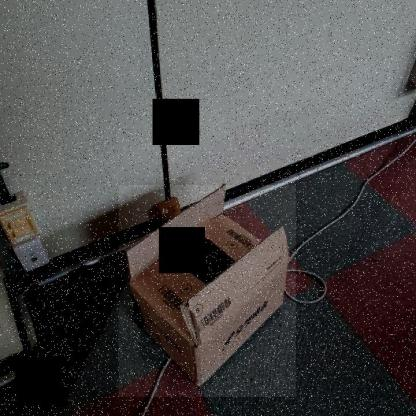box: (118, 185, 296, 397)
